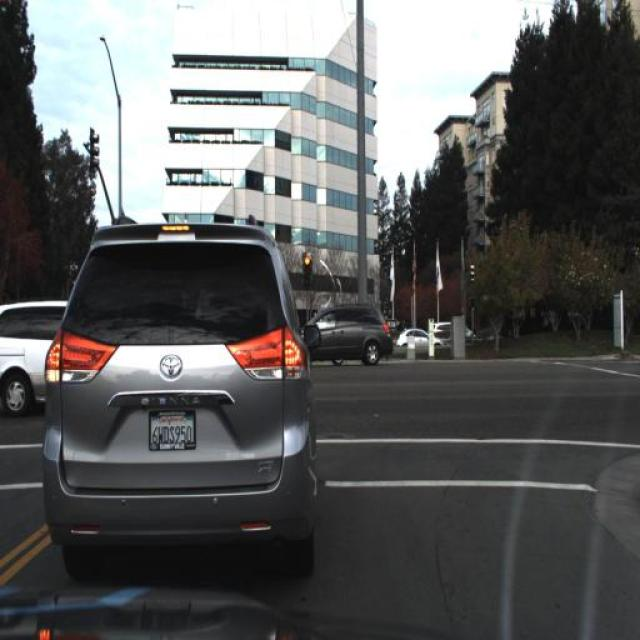car: (38, 206, 323, 576), (0, 302, 69, 407), (295, 305, 393, 371), (396, 326, 442, 352)
trafficLight-RedLeft: (300, 246, 314, 290)
